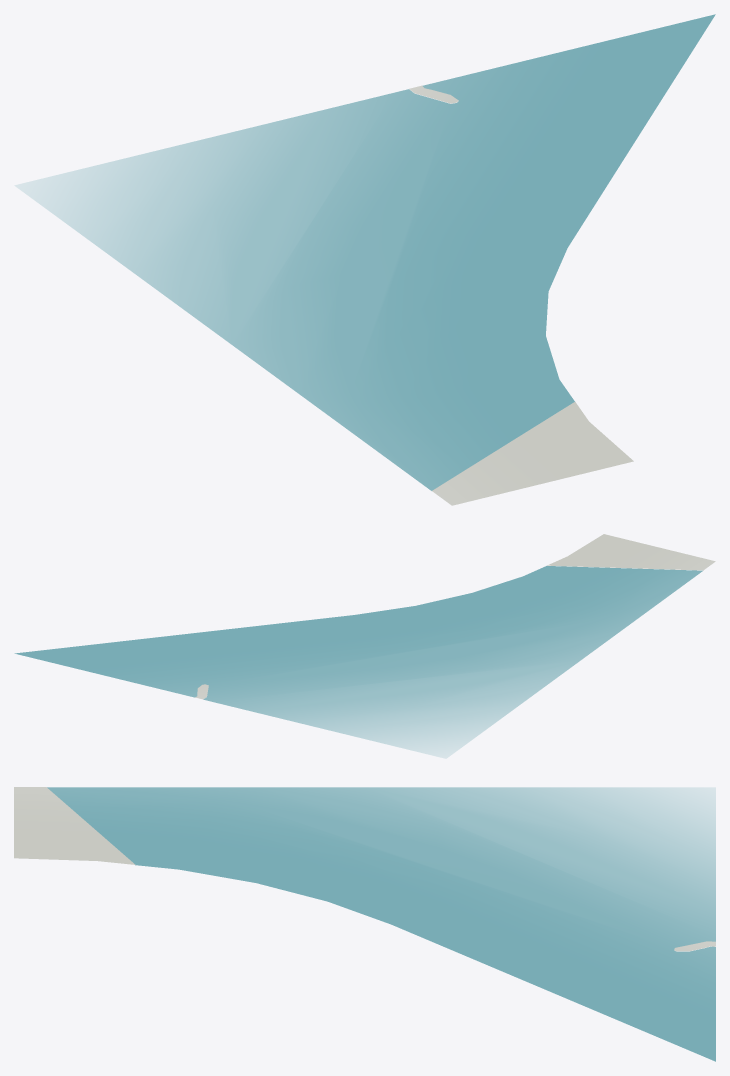
3 views of the same model, one above another, from view 1: azimuth 30°, elevation 25°; view 2: azimuth 150°, elevation 25°; view 3: azimuth 270°, elevation 25° (orthographic). The views are drawn at different scales.
Visible parts, largest first — view 1: city; view 2: city; view 3: city.
Part boxes in pixels (x1,y1,x2,y2): city: (15, 14, 715, 505); city: (14, 534, 715, 758); city: (14, 787, 715, 1061).
Size of the model in its own units: 463 by 0.18 by 500.
